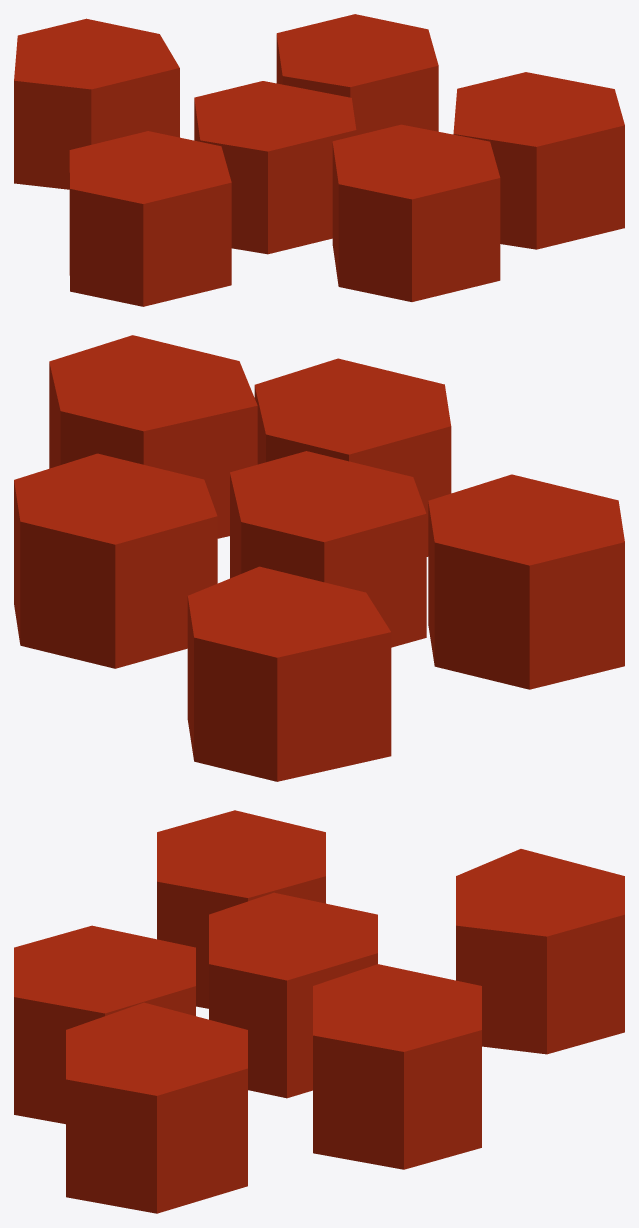
File: inv_red_spiders_eggs.obj
3 renders of one model, top to bottom at view 1: azimuth 30°, elevation 25°; view 2: azimuth 150°, elevation 25°; view 3: azimuth 270°, elevation 25°, orthographic. The views are drawn at different scales.
Bounding box in the file's own units: 0.4062 × 0.0781 × 0.3672.
